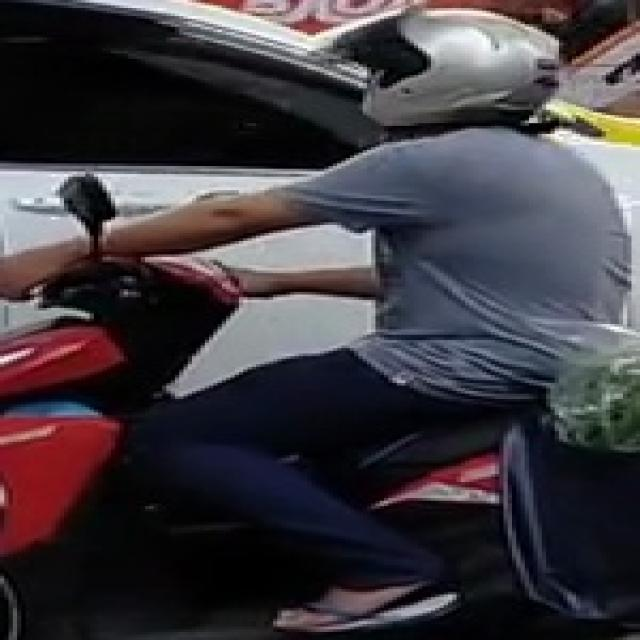door: (0, 0, 635, 388)
helmet: (320, 5, 563, 126), (34, 252, 239, 391)
